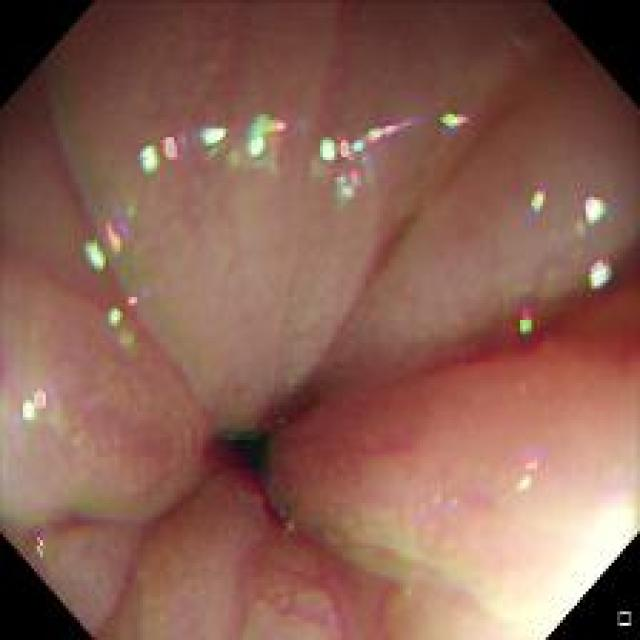color misalignment: (315, 111, 410, 209), (74, 212, 141, 276), (239, 104, 292, 170), (8, 376, 65, 431), (101, 285, 141, 351), (135, 130, 188, 176), (256, 476, 296, 529), (214, 415, 271, 444), (508, 300, 545, 340), (581, 250, 616, 291), (512, 445, 540, 495), (195, 115, 226, 156), (439, 98, 471, 136), (29, 524, 56, 565), (579, 192, 604, 234), (526, 186, 549, 214)
contrast: (211, 418, 279, 469)
saturation: (550, 506, 629, 590), (525, 541, 591, 624), (511, 528, 555, 638)
